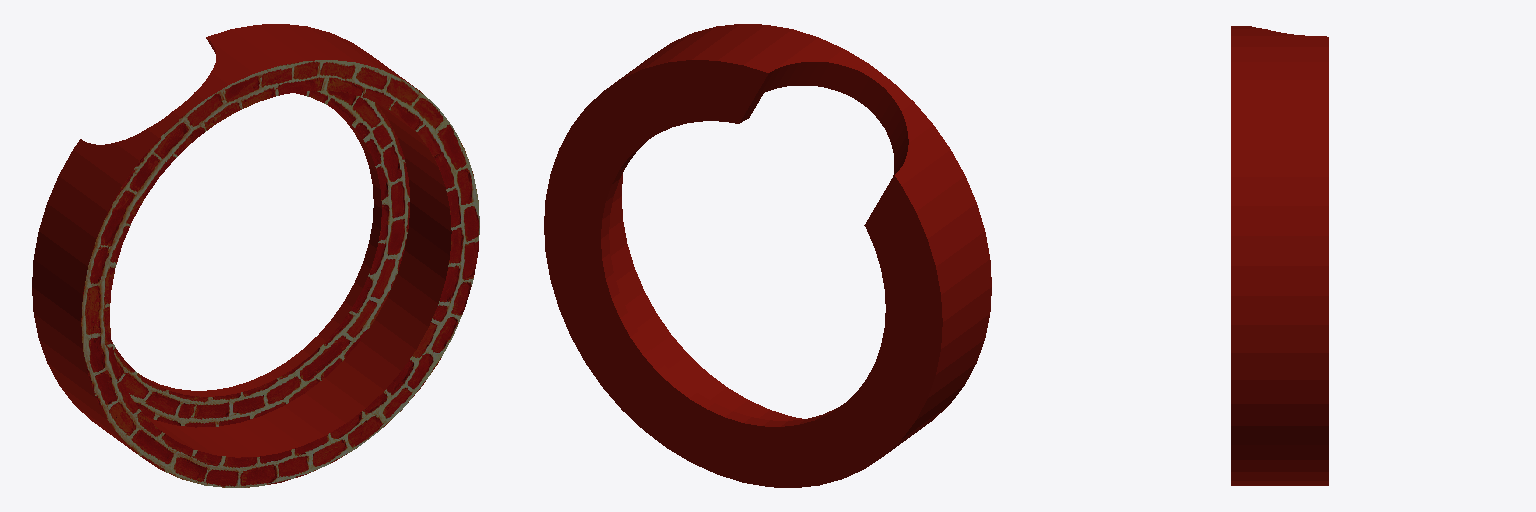
3 views of the same model, side by side, from view 1: azimuth 30°, elevation 25°; view 2: azimuth 150°, elevation 25°; view 3: azimuth 270°, elevation 25° (orthographic).
Bounding box in the file's own units: 14 × 14 × 3.
Materials: 1 (1 with a texture image).